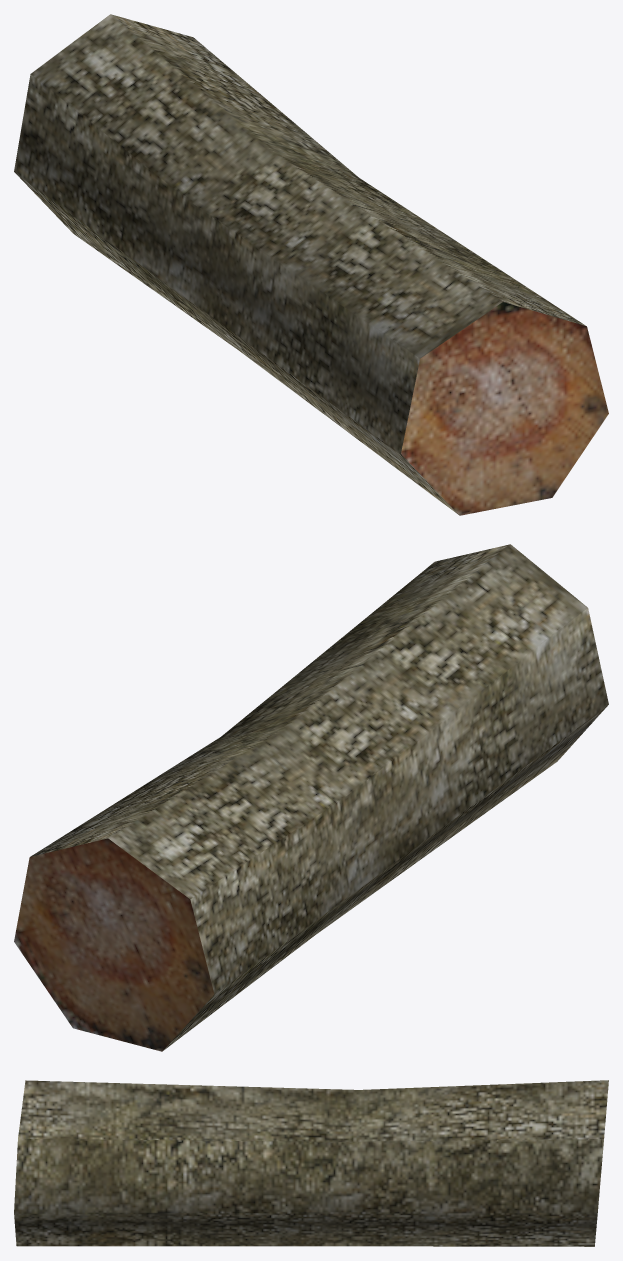
The model's file is Trunk_01.glb.
3 views of the same model, one above another, from view 1: azimuth 30°, elevation 25°; view 2: azimuth 150°, elevation 25°; view 3: azimuth 270°, elevation 25° (orthographic). The views are drawn at different scales.
Parts seen in each view (by area): view 1: Trunk_01; view 2: Trunk_01; view 3: Trunk_01.
Part boxes in pixels (x1,y1,x2,y2): Trunk_01: (14,14,608,515); Trunk_01: (14,544,608,1051); Trunk_01: (14,1080,608,1246).
Size of the model in its own units: 0.2729 by 0.27 by 0.9491.
1 material, 1 textured.
